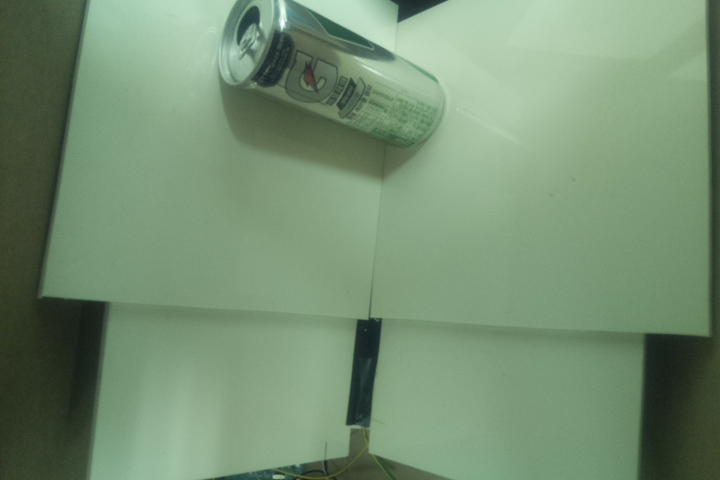can: (218, 1, 451, 150)
